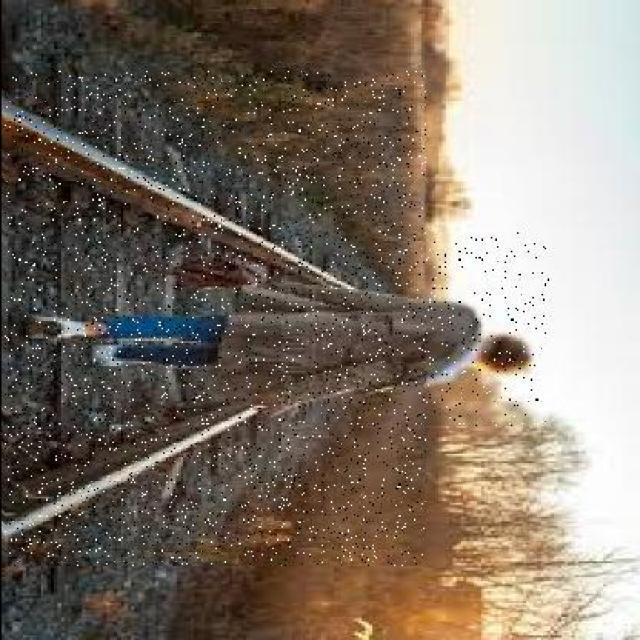danger: (15, 232, 547, 426)
rail: (3, 71, 424, 565)
